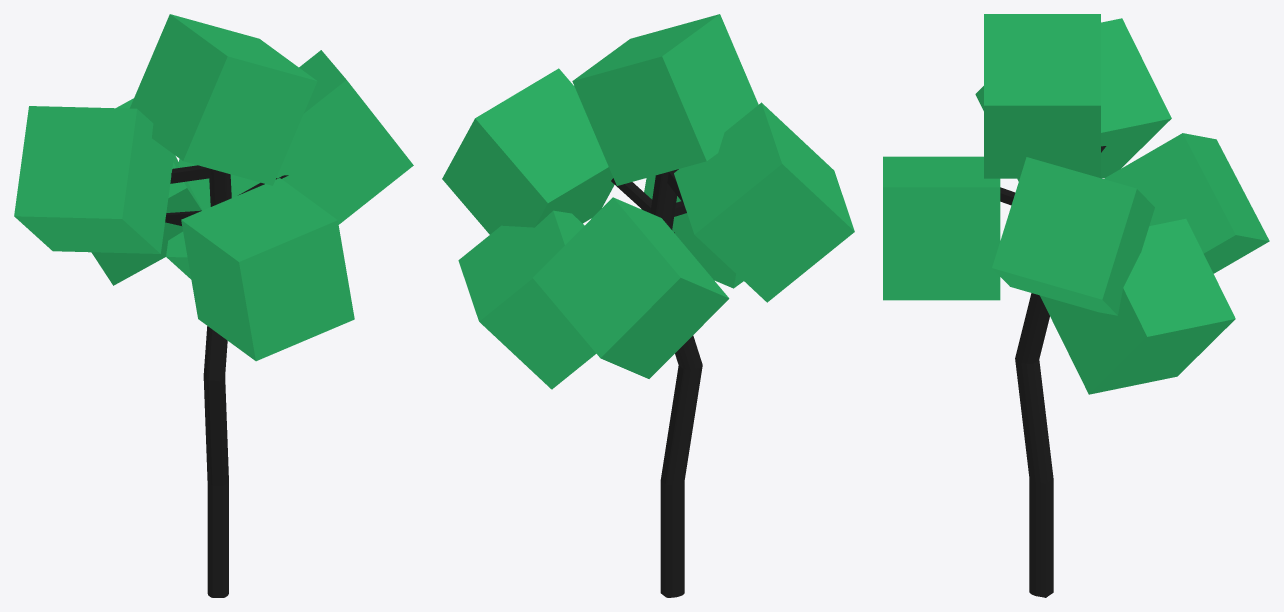
Rendered from tree.glb.
3 renders of one model, left to right at view 1: azimuth 30°, elevation 25°; view 2: azimuth 150°, elevation 25°; view 3: azimuth 270°, elevation 25°, orthographic.
Parts seen in each view (by area): view 1: Cube, tree.001; view 2: Cube, tree.001; view 3: Cube, tree.001.
Boxes of the visible parts, box(x1,y1,x2,y2) form: Cube: box(14, 14, 413, 361); tree.001: box(165, 165, 288, 597); Cube: box(442, 14, 854, 389); tree.001: box(611, 169, 702, 597); Cube: box(883, 14, 1269, 394); tree.001: box(1000, 146, 1106, 597).
Bounding box in the file's own units: 42.17 × 57.71 × 35.48.
1 material, 1 textured.
